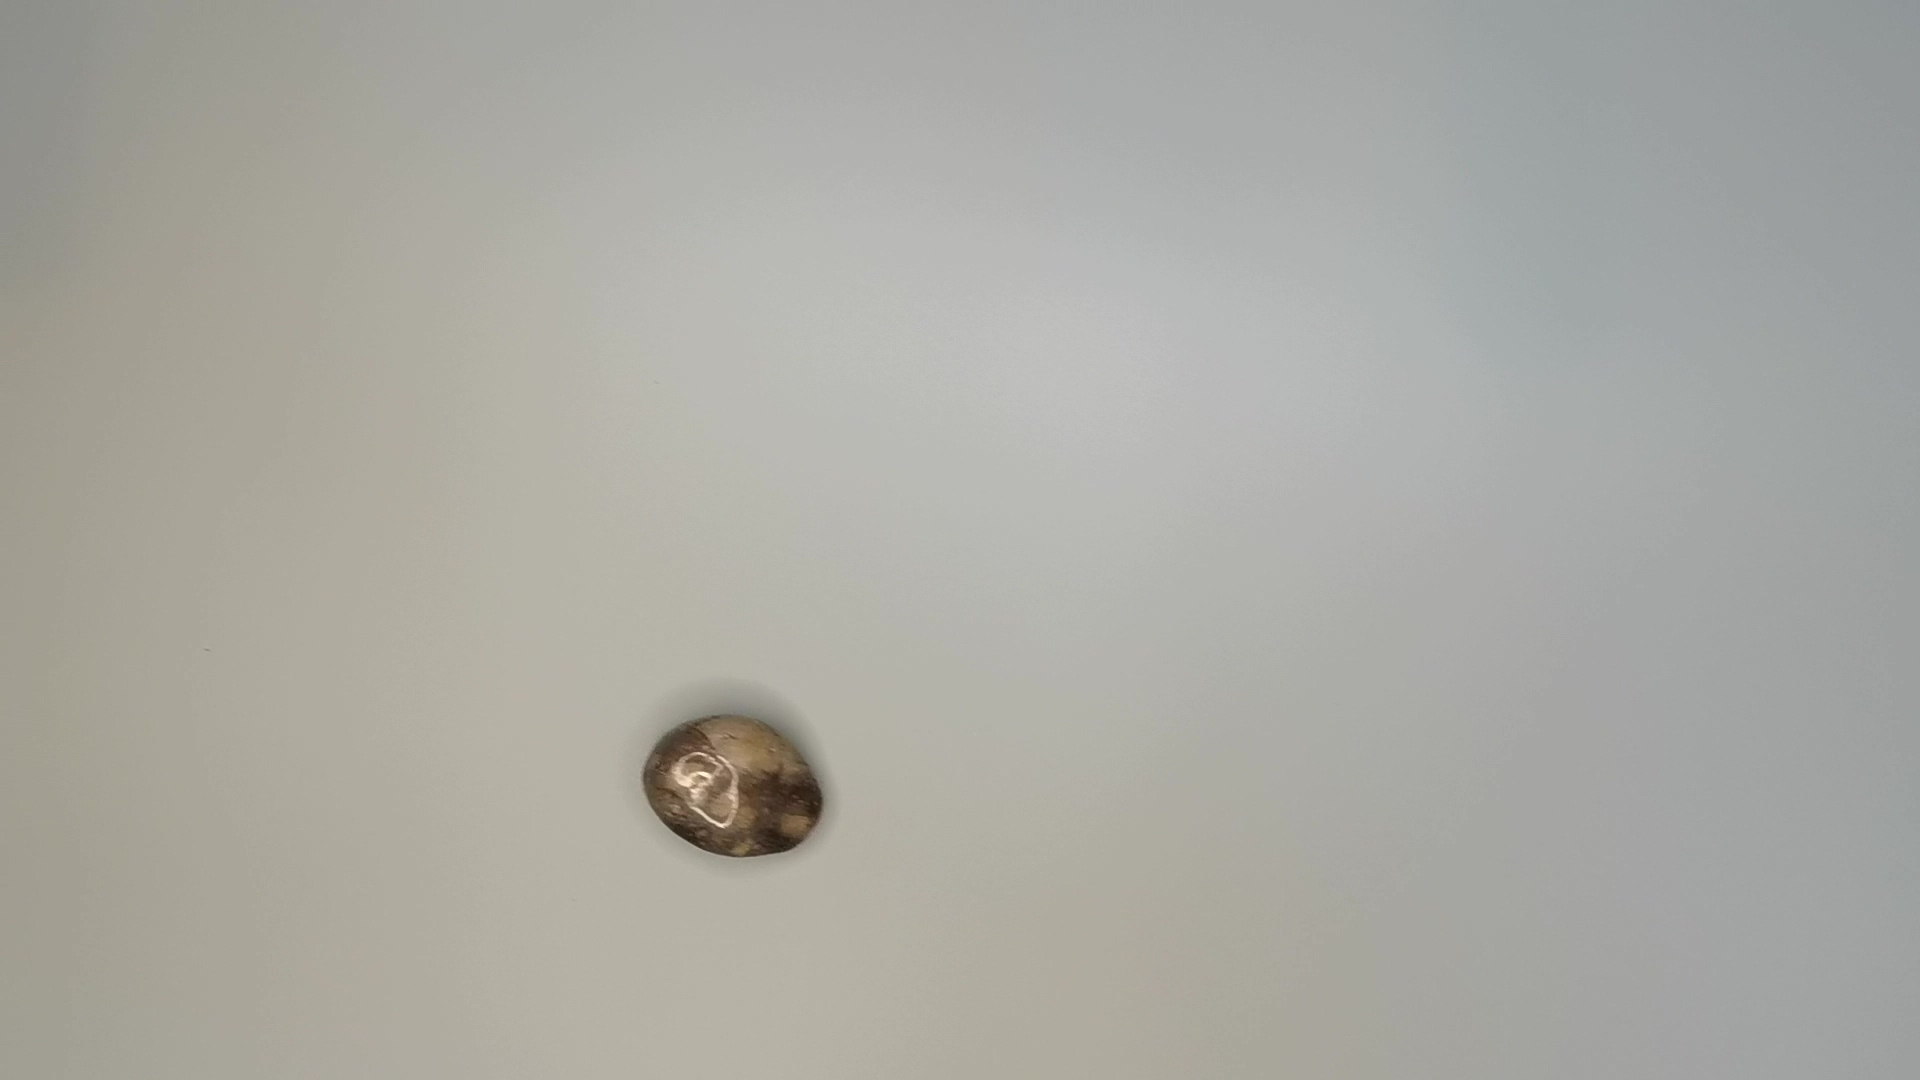ceramic: (632, 702, 825, 869)
